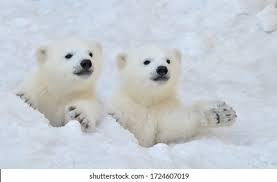PolarBear: (105, 43, 245, 147)
